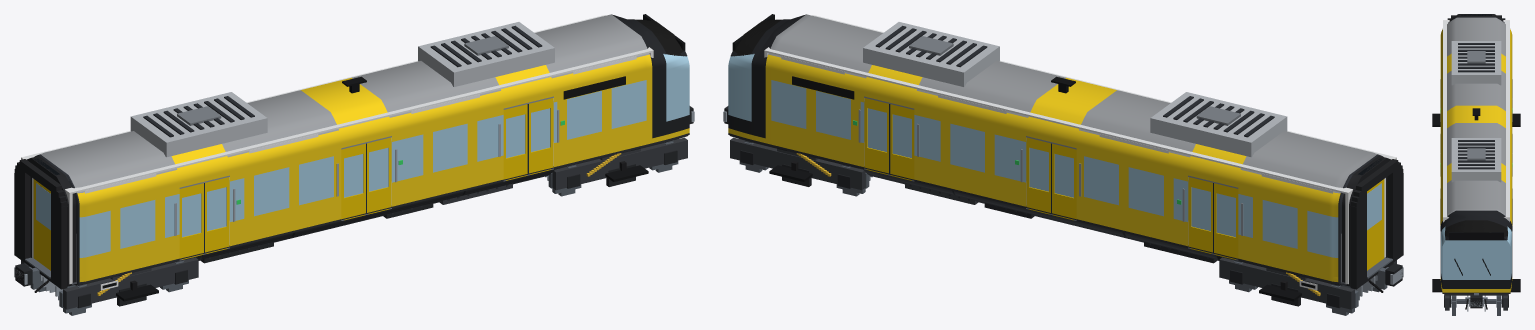
File: berlin_ik_front.obj
3 renders of one model, left to right at view 1: azimuth 30°, elevation 25°; view 2: azimuth 150°, elevation 25°; view 3: azimuth 270°, elevation 25°, orthographic. The views are drawn at different scales.
Visible parts, largest first — view 1: SHELL, SHELL_roof, SHELL_diaphragm, SHELL_ceiling, BOGEY_FRONT, BOGEY_REAR, FRAME, EXTERNAL_DOOR_9_CG_DR2_TOGGLE_TL_-0.59_X, EXTERNAL_DOOR_3_CG_DR1_TOGGLE_TL_-0.59_X, EXTERNAL_DOOR_15_CG_DR3_TOGGLE_TL_-0.59_X, EXTERNAL_DOOR_16_CG_DR3_TOGGLE_TL_0.59_X, EXTERNAL_DOOR_10_CG_DR2_TOGGLE_TL_0.59_X (+7 smaller); view 2: SHELL, SHELL_roof, SHELL_diaphragm, SHELL_ceiling, BOGEY_FRONT, BOGEY_REAR, FRAME, EXTERNAL_DOOR_12_CG_DL2_TOGGLE_TL_-0.59_X, EXTERNAL_DOOR_6_CG_DL1_TOGGLE_TL_-0.59_X, EXTERNAL_DOOR_18_CG_DL3_TOGGLE_TL_-0.59_X, EXTERNAL_DOOR_19_CG_DL3_TOGGLE_TL_0.59_X, EXTERNAL_DOOR_13_CG_DL2_TOGGLE_TL_0.59_X (+7 smaller); view 3: SHELL, SHELL_roof, SHELL_ceiling, BOGEY_FRONT, SHELL_destbox, BOGEY_FRONT_WHEEL_2, FRAME, BOGEY_REAR, SHELL_handle.
Part boxes in pixels (left/top/right/bottom): SHELL: left=27, top=14, right=689, bottom=286; SHELL_roof: left=130, top=22, right=554, bottom=157; SHELL_diaphragm: left=14, top=159, right=67, bottom=289; SHELL_ceiling: left=24, top=15, right=650, bottom=193; BOGEY_FRONT: left=552, top=137, right=687, bottom=190; BOGEY_REAR: left=21, top=257, right=198, bottom=309; FRAME: left=14, top=106, right=694, bottom=292; EXTERNAL_DOOR_9_CG_DR2_TOGGLE_TL_-0.59_X: left=341, top=143, right=366, bottom=219; EXTERNAL_DOOR_3_CG_DR1_TOGGLE_TL_-0.59_X: left=179, top=183, right=204, bottom=258; EXTERNAL_DOOR_15_CG_DR3_TOGGLE_TL_-0.59_X: left=503, top=104, right=528, bottom=179; EXTERNAL_DOOR_16_CG_DR3_TOGGLE_TL_0.59_X: left=529, top=98, right=553, bottom=173; EXTERNAL_DOOR_10_CG_DR2_TOGGLE_TL_0.59_X: left=367, top=137, right=391, bottom=212; SHELL: left=728, top=14, right=1390, bottom=286; SHELL_roof: left=863, top=22, right=1287, bottom=157; SHELL_diaphragm: left=1350, top=159, right=1403, bottom=289; SHELL_ceiling: left=767, top=15, right=1393, bottom=193; BOGEY_FRONT: left=730, top=137, right=865, bottom=190; BOGEY_REAR: left=1219, top=257, right=1396, bottom=309; FRAME: left=723, top=106, right=1403, bottom=292; EXTERNAL_DOOR_12_CG_DL2_TOGGLE_TL_-0.59_X: left=1051, top=143, right=1076, bottom=219; EXTERNAL_DOOR_6_CG_DL1_TOGGLE_TL_-0.59_X: left=1213, top=183, right=1238, bottom=258; EXTERNAL_DOOR_18_CG_DL3_TOGGLE_TL_-0.59_X: left=889, top=104, right=914, bottom=179; EXTERNAL_DOOR_19_CG_DL3_TOGGLE_TL_0.59_X: left=864, top=98, right=888, bottom=173; EXTERNAL_DOOR_13_CG_DL2_TOGGLE_TL_0.59_X: left=1026, top=137, right=1050, bottom=212; SHELL: left=1440, top=14, right=1512, bottom=295; SHELL_roof: left=1451, top=41, right=1501, bottom=182; SHELL_ceiling: left=1443, top=21, right=1509, bottom=216; BOGEY_FRONT: left=1432, top=279, right=1520, bottom=310; SHELL_destbox: left=1449, top=232, right=1503, bottom=240; BOGEY_FRONT_WHEEL_2: left=1451, top=295, right=1501, bottom=315; FRAME: left=1465, top=293, right=1487, bottom=309; BOGEY_REAR: left=1432, top=113, right=1520, bottom=126; SHELL_handle: left=1440, top=79, right=1512, bottom=230.
Bounding box in the file's own units: 17.24 × 3.76 × 2.84.
Materials: 1 (1 with a texture image).
